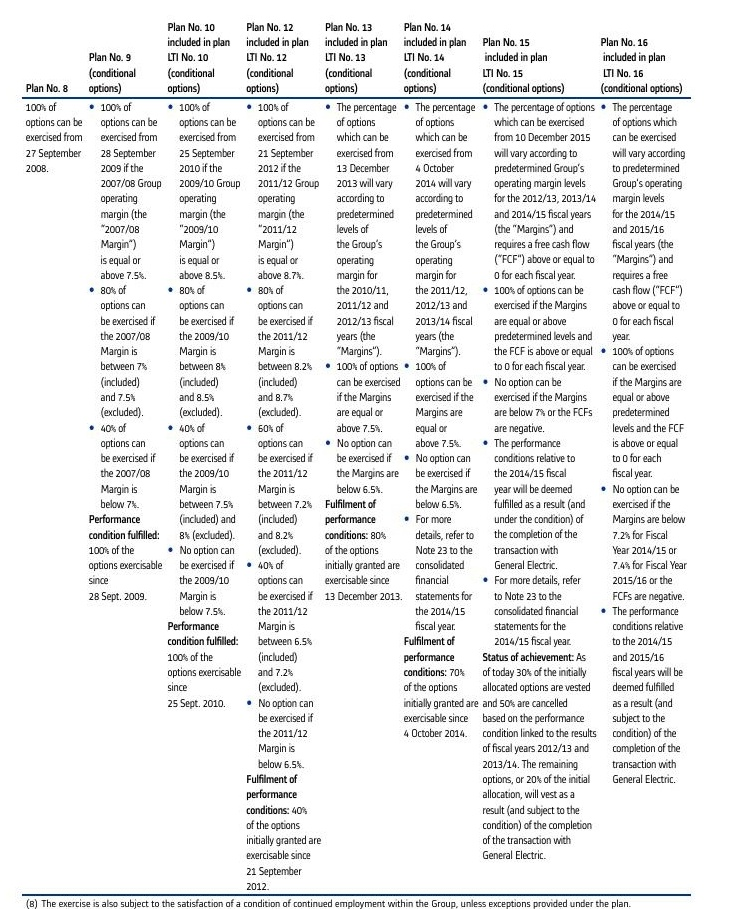table: (0, 0, 730, 909)
